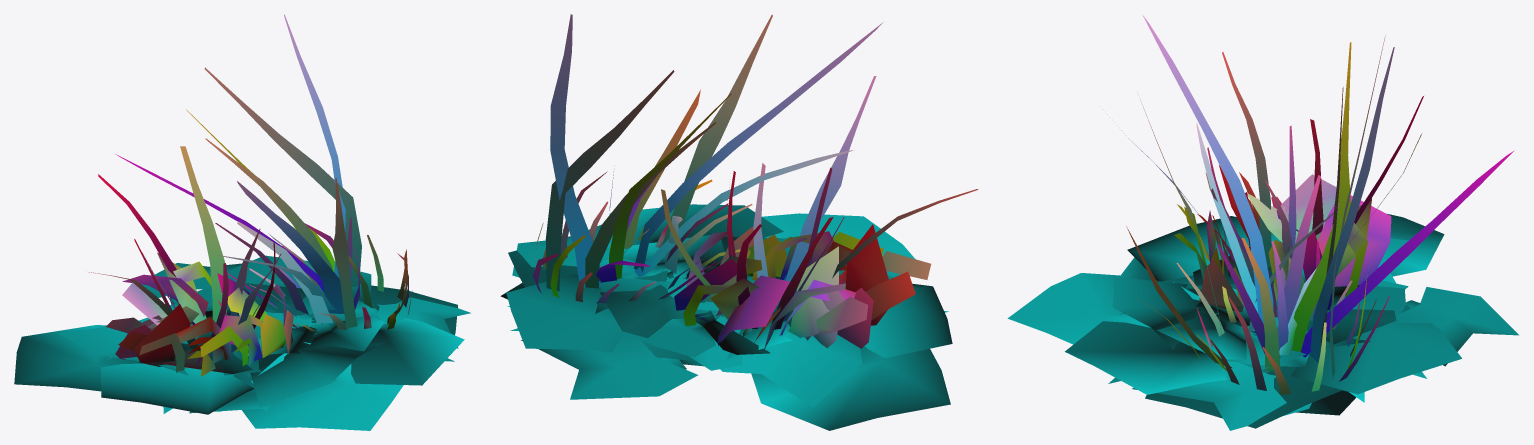
Rendered from Wild_Grass_vczndjqja_Mid_vczndjqja_VarB_LOD0.fbx.
3 renders of one model, left to right at view 1: azimuth 30°, elevation 25°; view 2: azimuth 150°, elevation 25°; view 3: azimuth 270°, elevation 25°, orthographic. The views are drawn at different scales.
Parts seen in each view (by area): view 1: _v9i5_VarB_LOD1; view 2: _v9i5_VarB_LOD1; view 3: _v9i5_VarB_LOD1.
Part boxes in pixels (box(x1,y1,x2,y2)): _v9i5_VarB_LOD1: box(14, 14, 470, 430); _v9i5_VarB_LOD1: box(500, 14, 978, 430); _v9i5_VarB_LOD1: box(1007, 15, 1518, 430).
Size of the model in its own units: 64.3 by 42.22 by 59.74.
